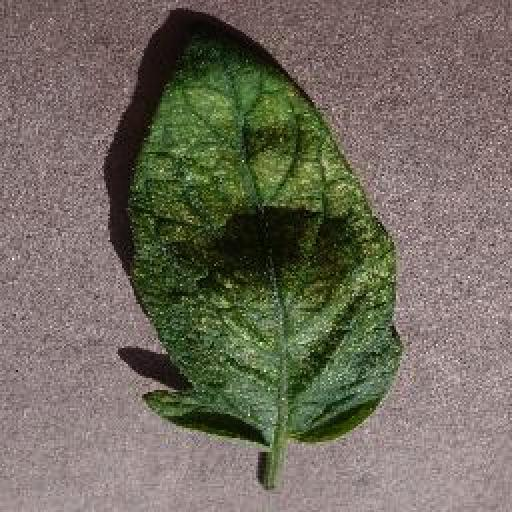disease_tomato: (122, 36, 402, 442)
